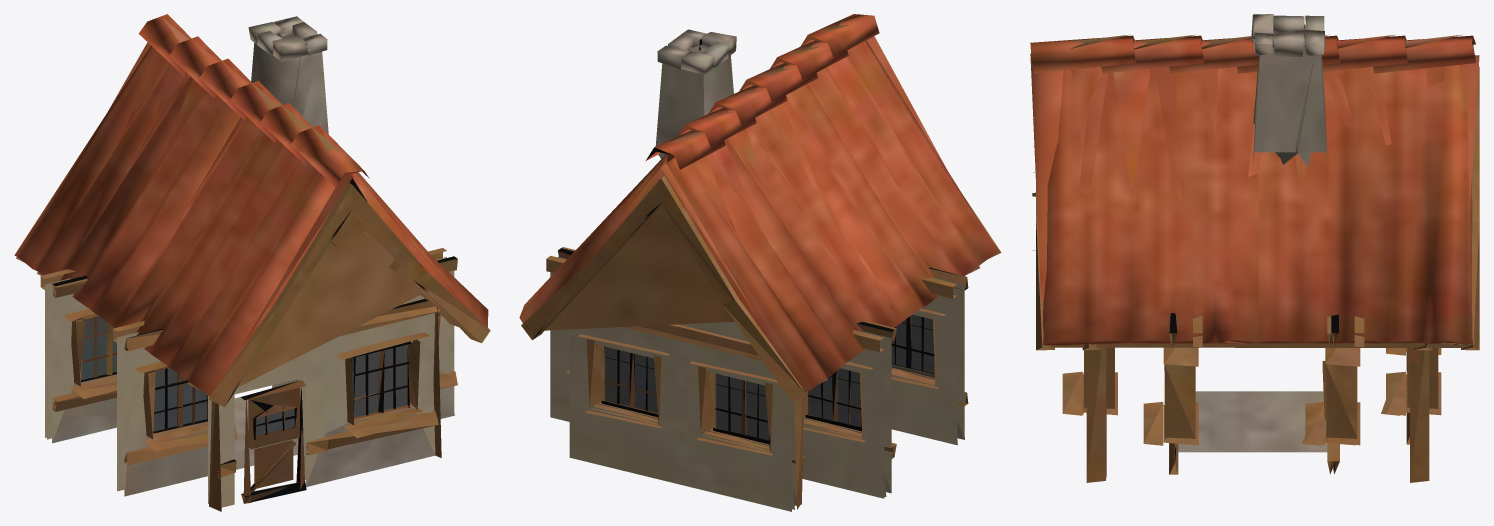
Rendered from library-house-atlas.glb.
3 views of the same model, side by side, from view 1: azimuth 30°, elevation 25°; view 2: azimuth 150°, elevation 25°; view 3: azimuth 270°, elevation 25° (orthographic). The views are drawn at different scales.
Parts seen in each view (by area): view 1: maison_alsace_01, maison_alsace_01_distant; view 2: maison_alsace_01, maison_alsace_01_distant; view 3: maison_alsace_01, maison_alsace_01_distant.
Boxes of the visible parts, left/top/right/bottom form: maison_alsace_01: left=14, top=14, right=490, bottom=511; maison_alsace_01_distant: left=47, top=17, right=465, bottom=504; maison_alsace_01: left=519, top=14, right=1001, bottom=511; maison_alsace_01_distant: left=544, top=22, right=968, bottom=509; maison_alsace_01: left=1030, top=14, right=1479, bottom=482; maison_alsace_01_distant: left=1030, top=27, right=1479, bottom=478.
Bounding box in the file's own units: 0.93 × 1.02 × 0.979.
Materials: 2 (2 with a texture image).
